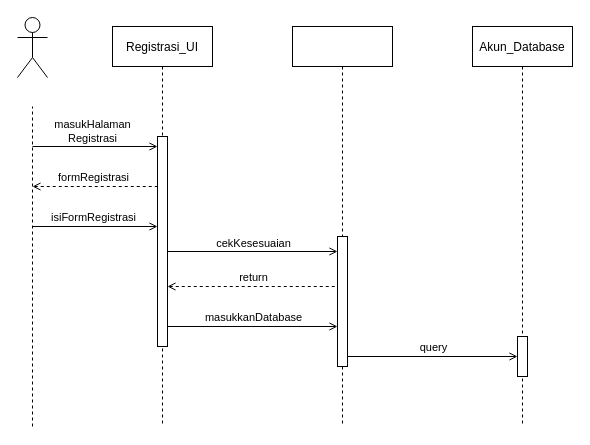
Some shapes in this 590 by 445 pixel diagram are drawn without their labels. Each missing label, with the centre of its shape:
"Registrasi_ Controller" belongs at (342,226).
"User" belongs at (32,47).
